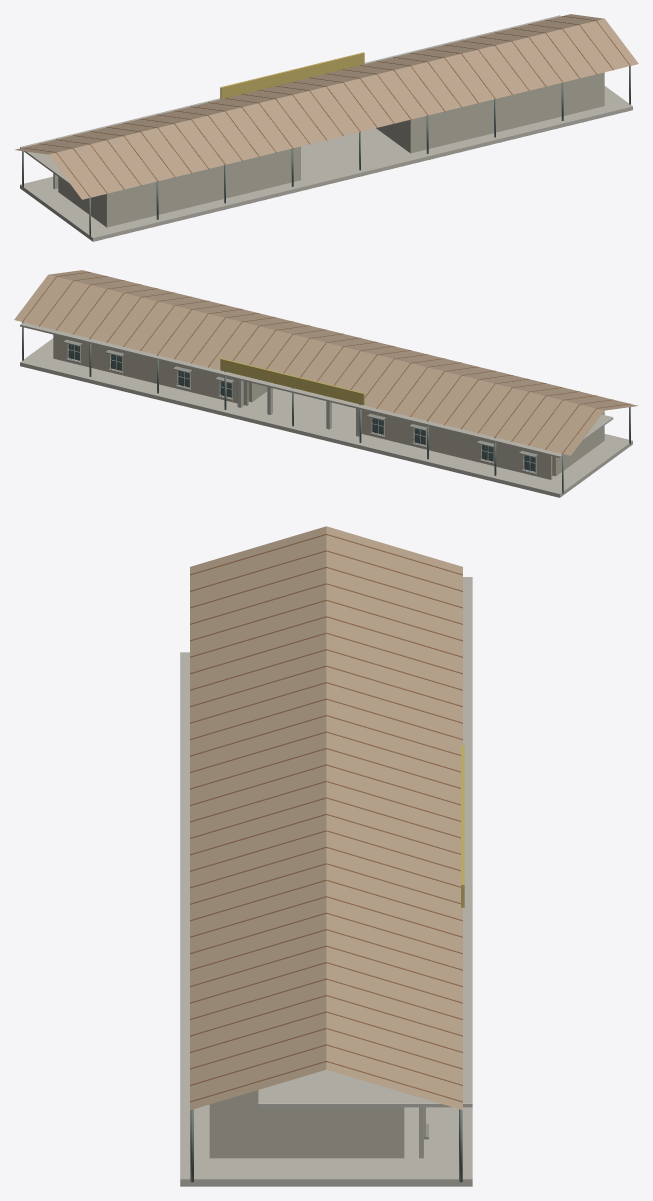
Rendered from kerala_coastal_station.glb.
3 views of the same model, one above another, from view 1: azimuth 30°, elevation 25°; view 2: azimuth 150°, elevation 25°; view 3: azimuth 270°, elevation 25° (orthographic). The views are drawn at different scales.
Visible parts, largest first — view 1: kerala_coastal_station; view 2: kerala_coastal_station; view 3: kerala_coastal_station.
Boxes of the visible parts, bbox=[...] form: kerala_coastal_station: bbox=[14, 14, 638, 241]; kerala_coastal_station: bbox=[14, 270, 638, 497]; kerala_coastal_station: bbox=[180, 526, 472, 1186].
Size of the model in its own units: 66 by 7.12 by 15.
